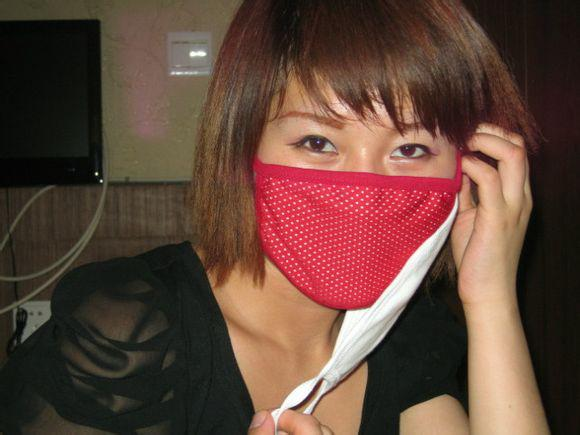OK: (263, 85, 476, 298)
